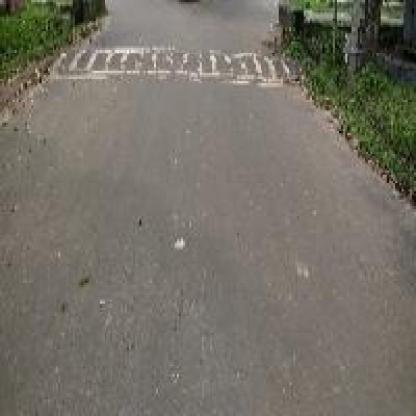Speed Bump: (35, 43, 294, 90)
